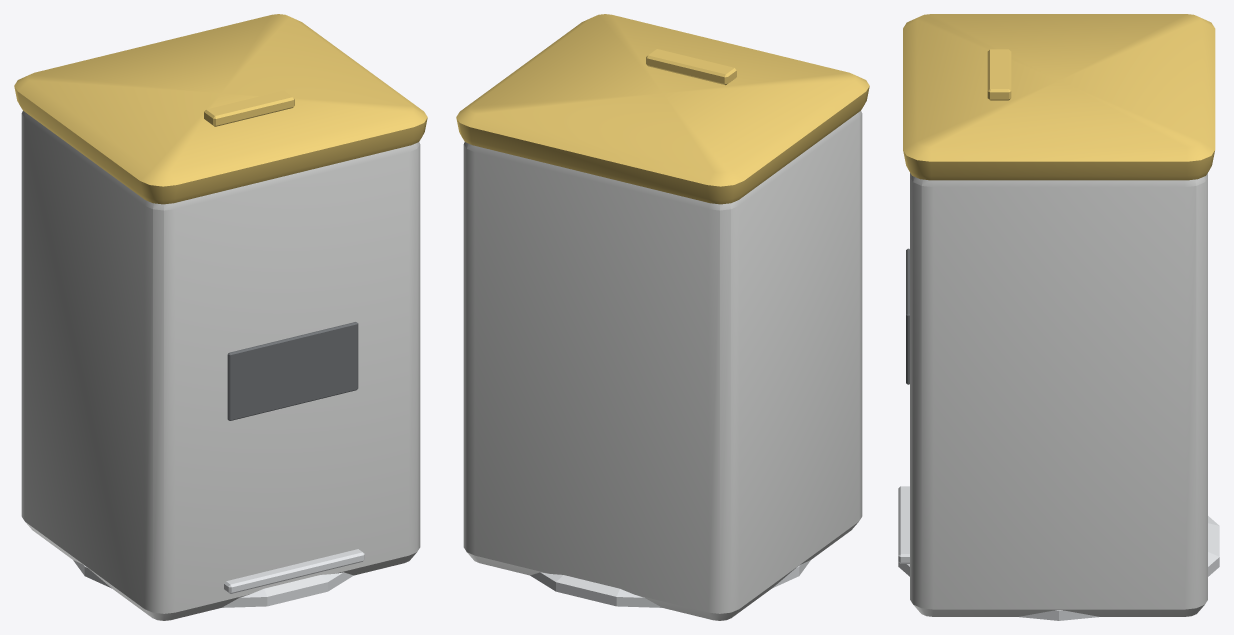
The model's file is clinic-and-veterinary-practice-clinical-waste-bin-b690e83d__16746.glb.
The picture shows the model from 3 angles, left to right: view 1: azimuth 30°, elevation 25°; view 2: azimuth 150°, elevation 25°; view 3: azimuth 270°, elevation 25°; orthographic projection. The views are drawn at different scales.
Visible parts, largest first — view 1: clinical-waste-bin, lid; view 2: clinical-waste-bin, lid; view 3: clinical-waste-bin, lid.
Boxes of the visible parts, x1=… form: clinical-waste-bin: x1=21, y1=111, x2=420, y2=620; lid: x1=14, y1=14, x2=427, y2=204; clinical-waste-bin: x1=463, y1=111, x2=862, y2=620; lid: x1=456, y1=14, x2=869, y2=204; clinical-waste-bin: x1=898, y1=173, x2=1219, y2=620; lid: x1=903, y1=14, x2=1215, y2=180.
Size of the model in its own units: 0.438 by 0.678 by 0.4097.
